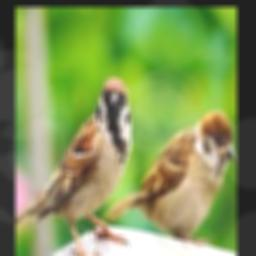Sparrow: (16, 77, 131, 256), (104, 111, 235, 245)
